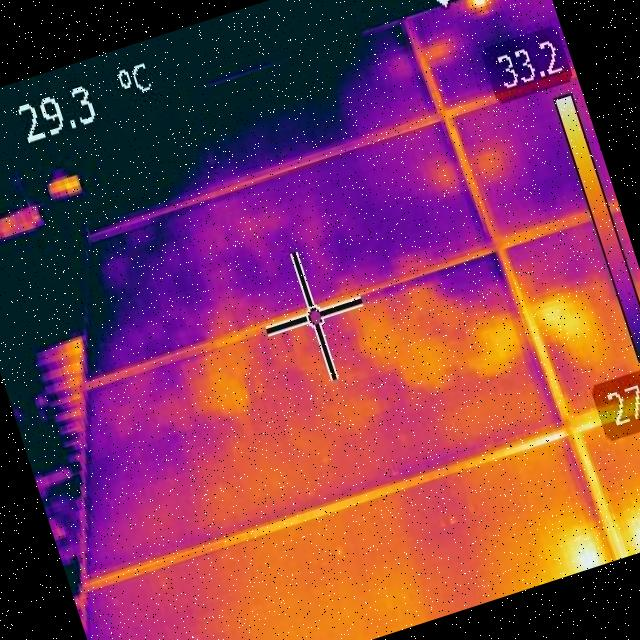Hotspot: (535, 273, 616, 381), (464, 309, 530, 387), (558, 526, 612, 576), (464, 0, 500, 28), (621, 503, 640, 552)
